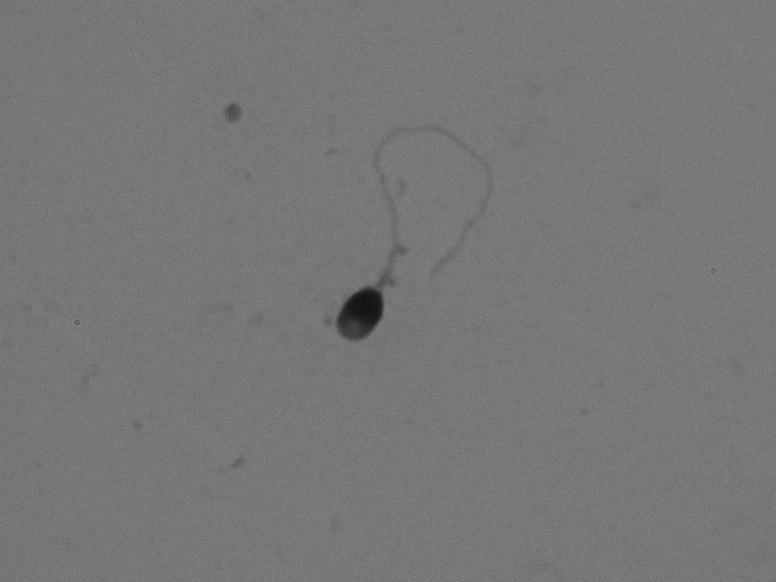Abnormal: (311, 102, 538, 367)
